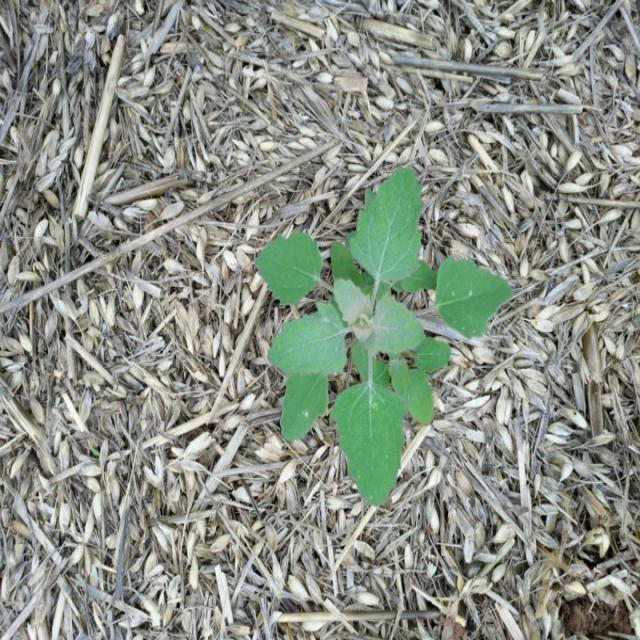goosefoots: (229, 150, 506, 488)
